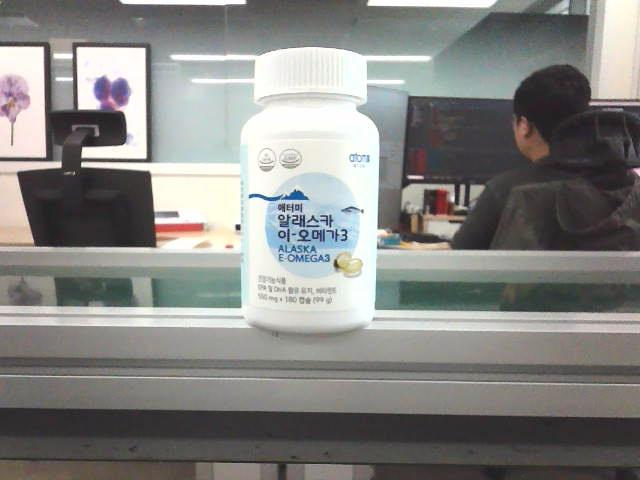labeled: (234, 47, 380, 340)
